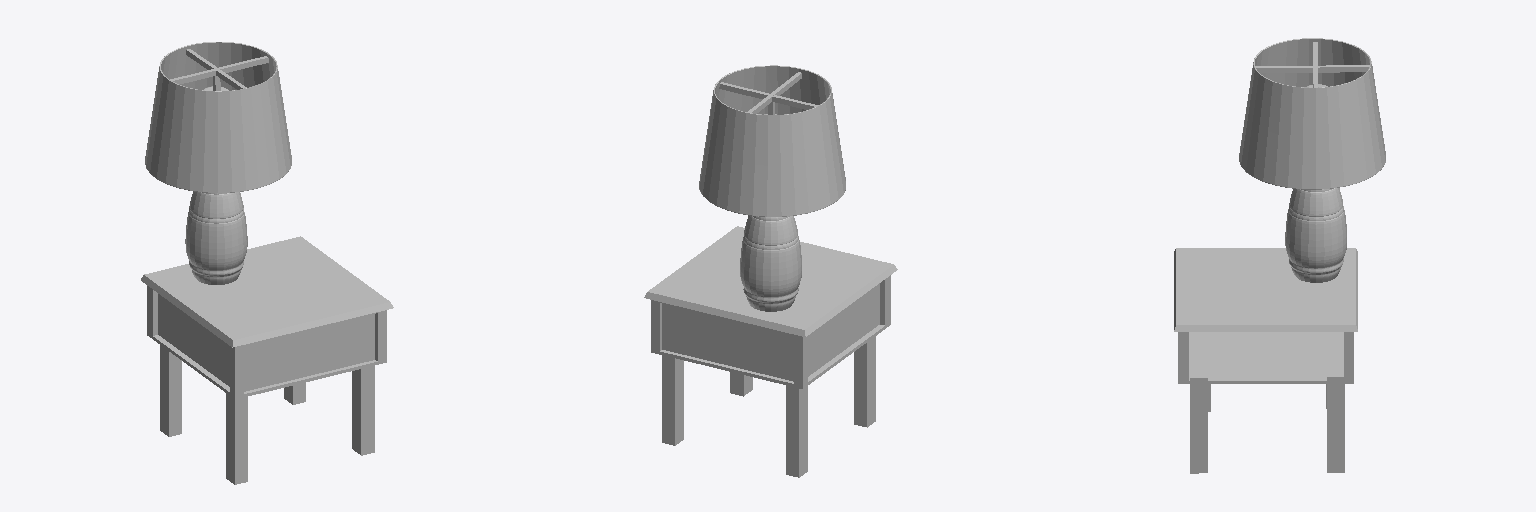
The model's file is Tocador_CatDog.obj.
The picture shows the model from 3 angles: view 1: azimuth 30°, elevation 25°; view 2: azimuth 150°, elevation 25°; view 3: azimuth 270°, elevation 25°; orthographic projection.
Parts seen in each view (by area): view 1: polySurface1282, polySurface1259; view 2: polySurface1282, polySurface1259; view 3: polySurface1282, polySurface1259.
Boxes of the visible parts, x1=… form: polySurface1282: x1=141, y1=236, x2=393, y2=484; polySurface1259: x1=145, y1=42, x2=291, y2=284; polySurface1282: x1=644, y1=226, x2=897, y2=477; polySurface1259: x1=699, y1=65, x2=845, y2=311; polySurface1282: x1=1174, y1=248, x2=1357, y2=473; polySurface1259: x1=1239, y1=38, x2=1385, y2=282.
Bounding box in the file's own units: 1.81 × 3.72 × 1.96.